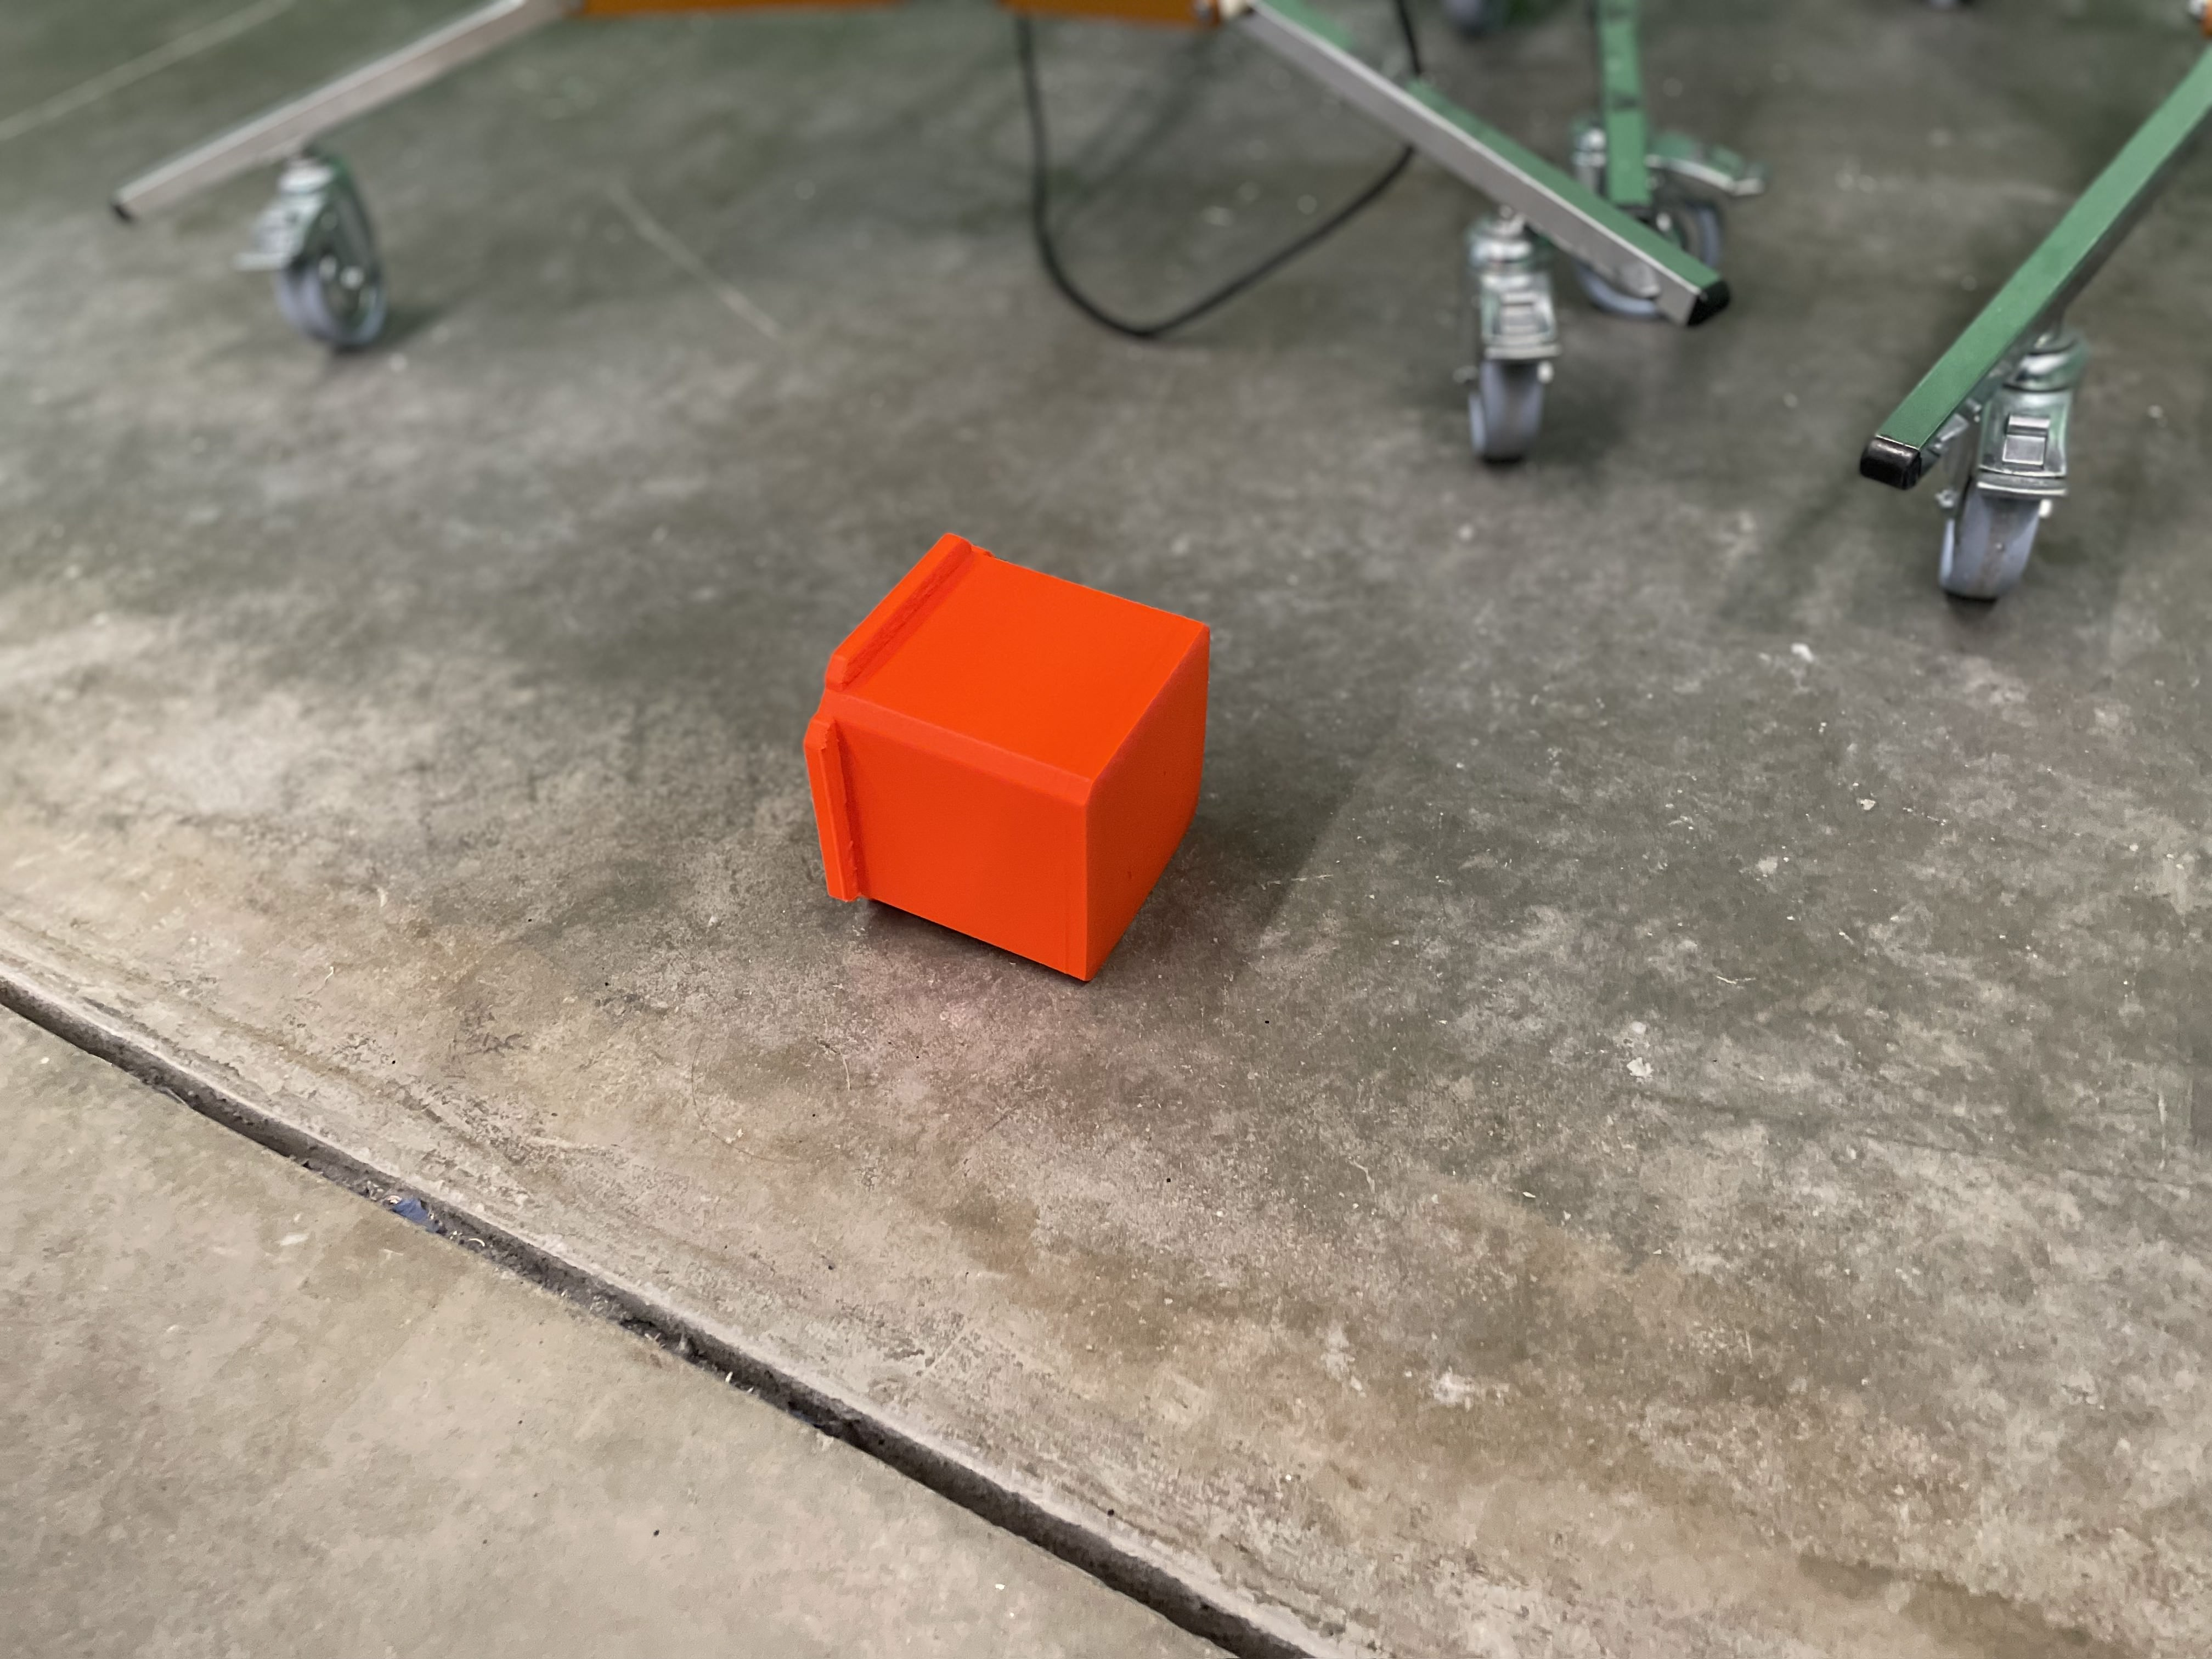payload1: (799, 521, 1237, 1025)
